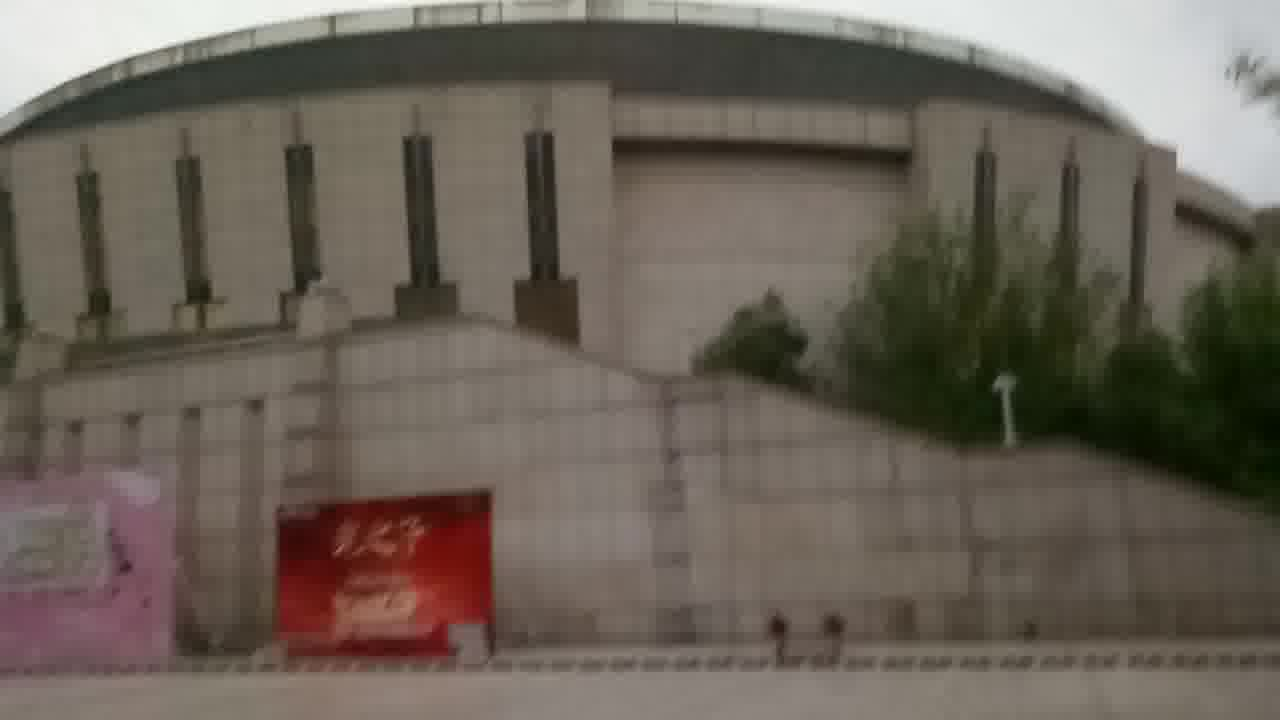zhongtiww: (10, 1, 1278, 680)
